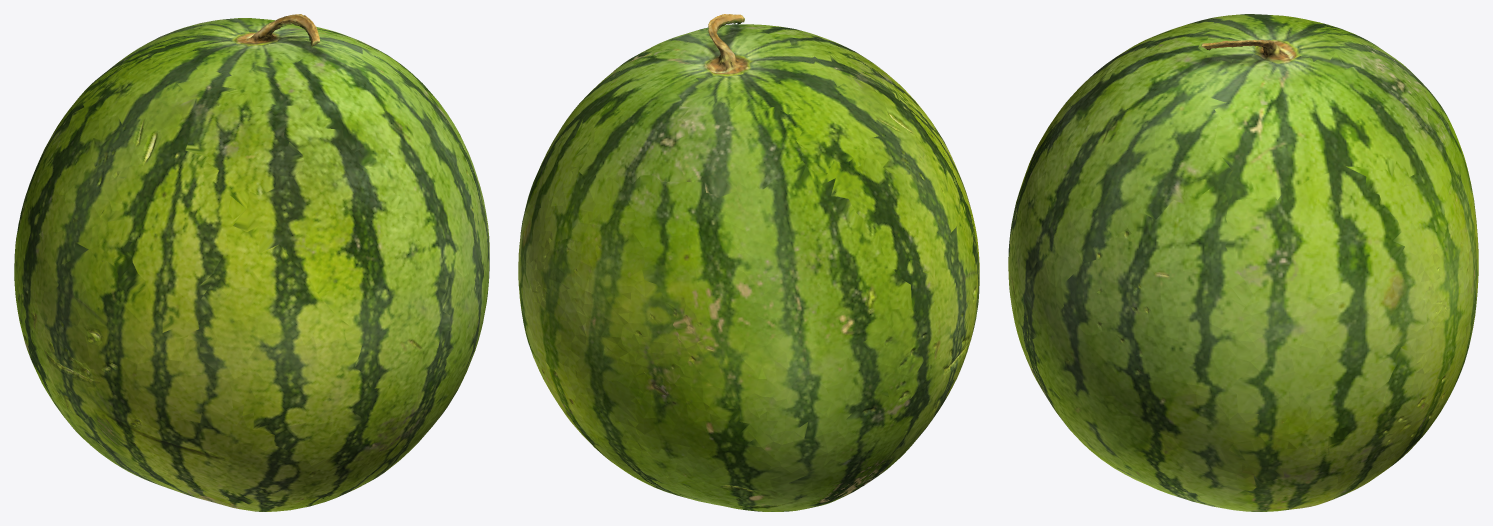
Rendered from GreenFruitWatermelon01.fbx.
The picture shows the model from 3 angles, left to right: view 1: azimuth 30°, elevation 25°; view 2: azimuth 150°, elevation 25°; view 3: azimuth 270°, elevation 25°; orthographic projection. The views are drawn at different scales.
Parts seen in each view (by area): view 1: Watermelon; view 2: Watermelon; view 3: Watermelon.
Part boxes in pixels (x1,y1,x2,y2): Watermelon: [14, 14, 489, 511]; Watermelon: [518, 14, 979, 511]; Watermelon: [1008, 14, 1478, 511].
Bounding box in the file's own units: 0.2759 × 0.2686 × 0.2964.
1 material, 1 textured.
